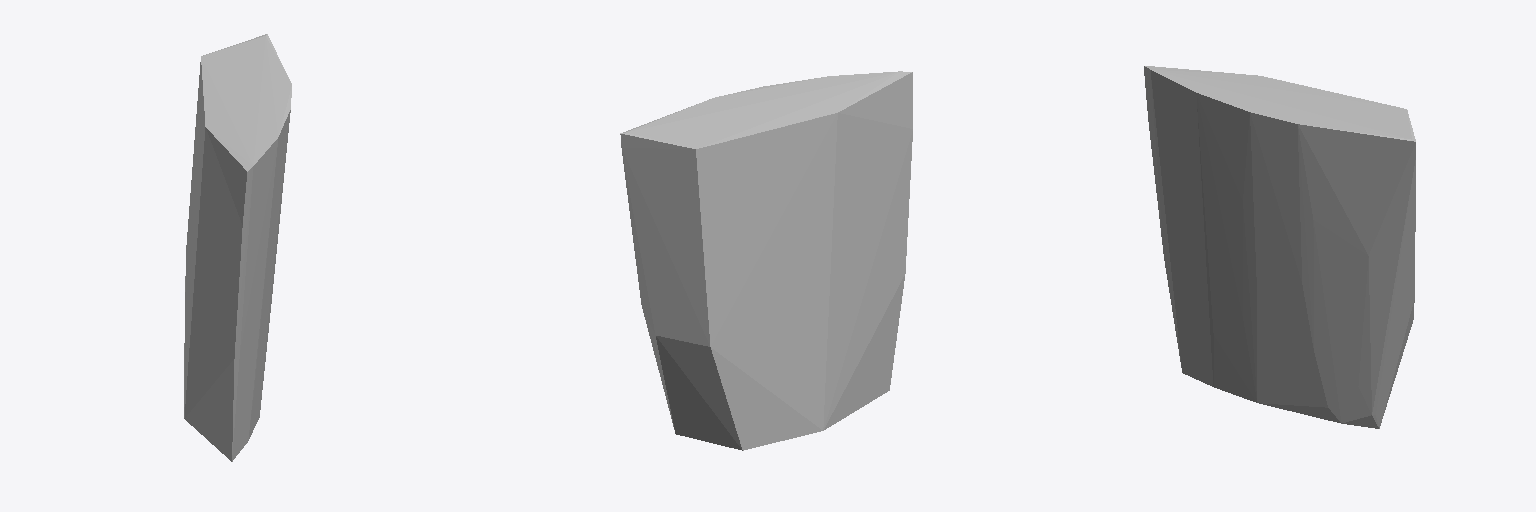
The model's file is trash_bin_collision_13.obj.
3 views of the same model, side by side, from view 1: azimuth 30°, elevation 25°; view 2: azimuth 150°, elevation 25°; view 3: azimuth 270°, elevation 25° (orthographic).
Size of the model in its own units: 0.0425 by 0.0786 by 0.0631.